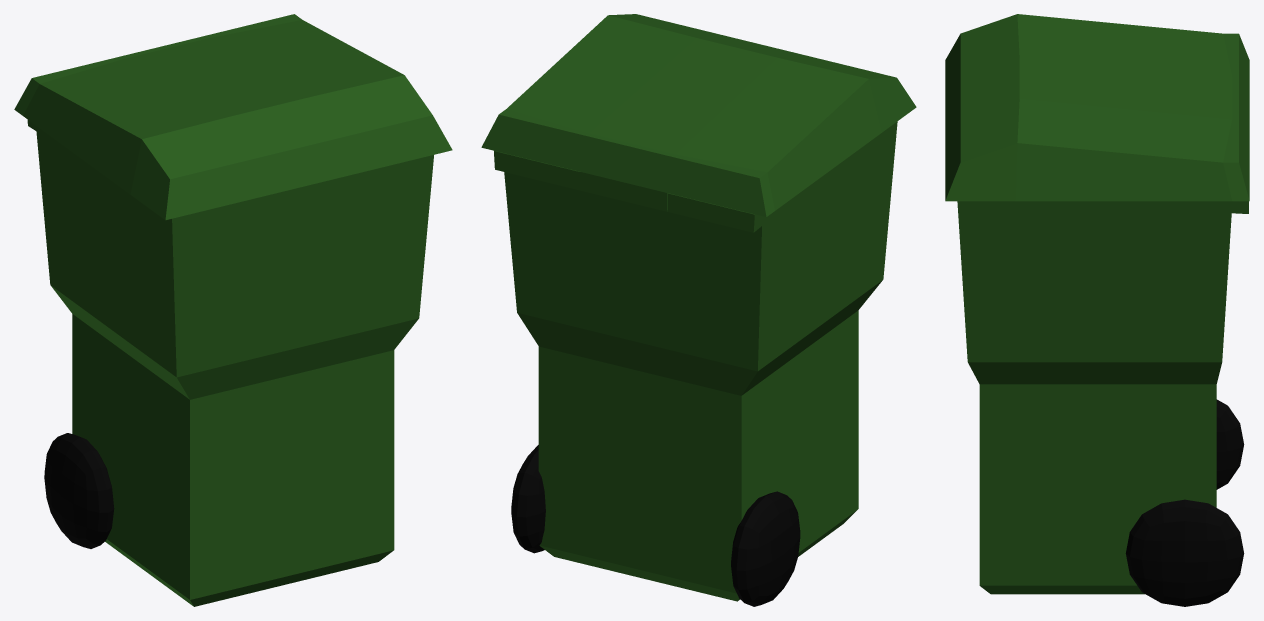
The model's file is Trashcan.fbx.
The picture shows the model from 3 angles, left to right: view 1: azimuth 30°, elevation 25°; view 2: azimuth 150°, elevation 25°; view 3: azimuth 270°, elevation 25°; orthographic projection.
Visible parts, largest first — view 1: Cube, Cube.001, Cube.003; view 2: Cube, Cube.001, Cube.003, Cube.002; view 3: Cube, Cube.001, Cube.002, Cube.003.
Part boxes in pixels (left/top/right/bottom): Cube: left=27, top=120, right=433, bottom=606; Cube.001: left=14, top=14, right=452, bottom=220; Cube.003: left=44, top=433, right=114, bottom=548; Cube: left=494, top=121, right=897, bottom=601; Cube.001: left=481, top=14, right=916, bottom=216; Cube.003: left=731, top=491, right=800, bottom=606; Cube.002: left=511, top=445, right=545, bottom=553; Cube: left=957, top=201, right=1248, bottom=594; Cube.001: left=945, top=14, right=1249, bottom=201; Cube.002: left=1125, top=499, right=1244, bottom=606; Cube.003: left=1216, top=399, right=1244, bottom=489.
Size of the model in its own units: 65.31 by 102 by 59.56.
